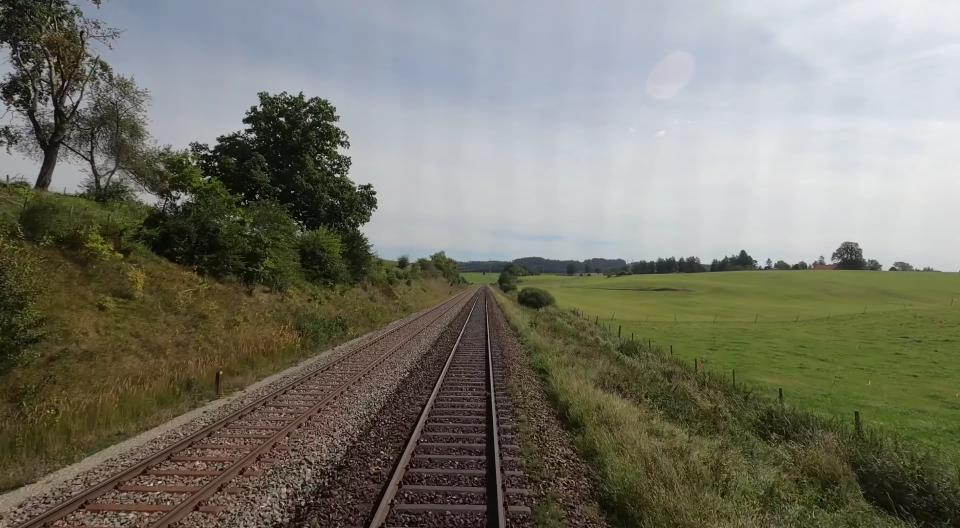Plant: (515, 412, 554, 484), (532, 494, 568, 528), (506, 375, 522, 396)
